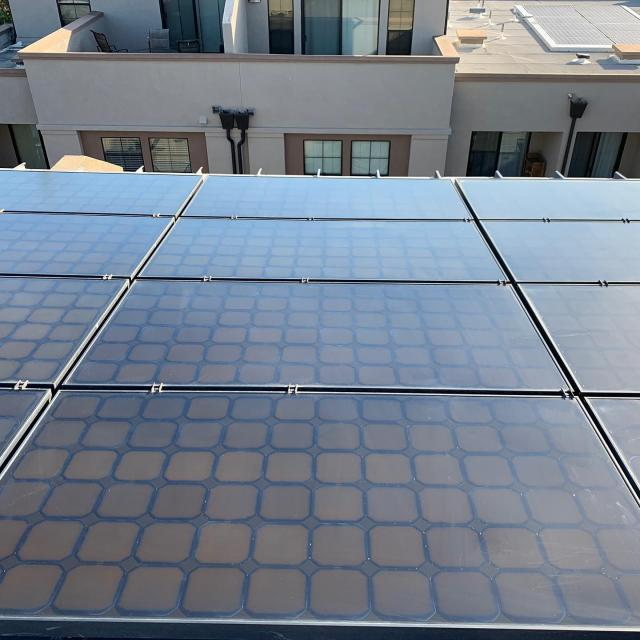clean-solar-panel: (420, 489, 472, 524)
